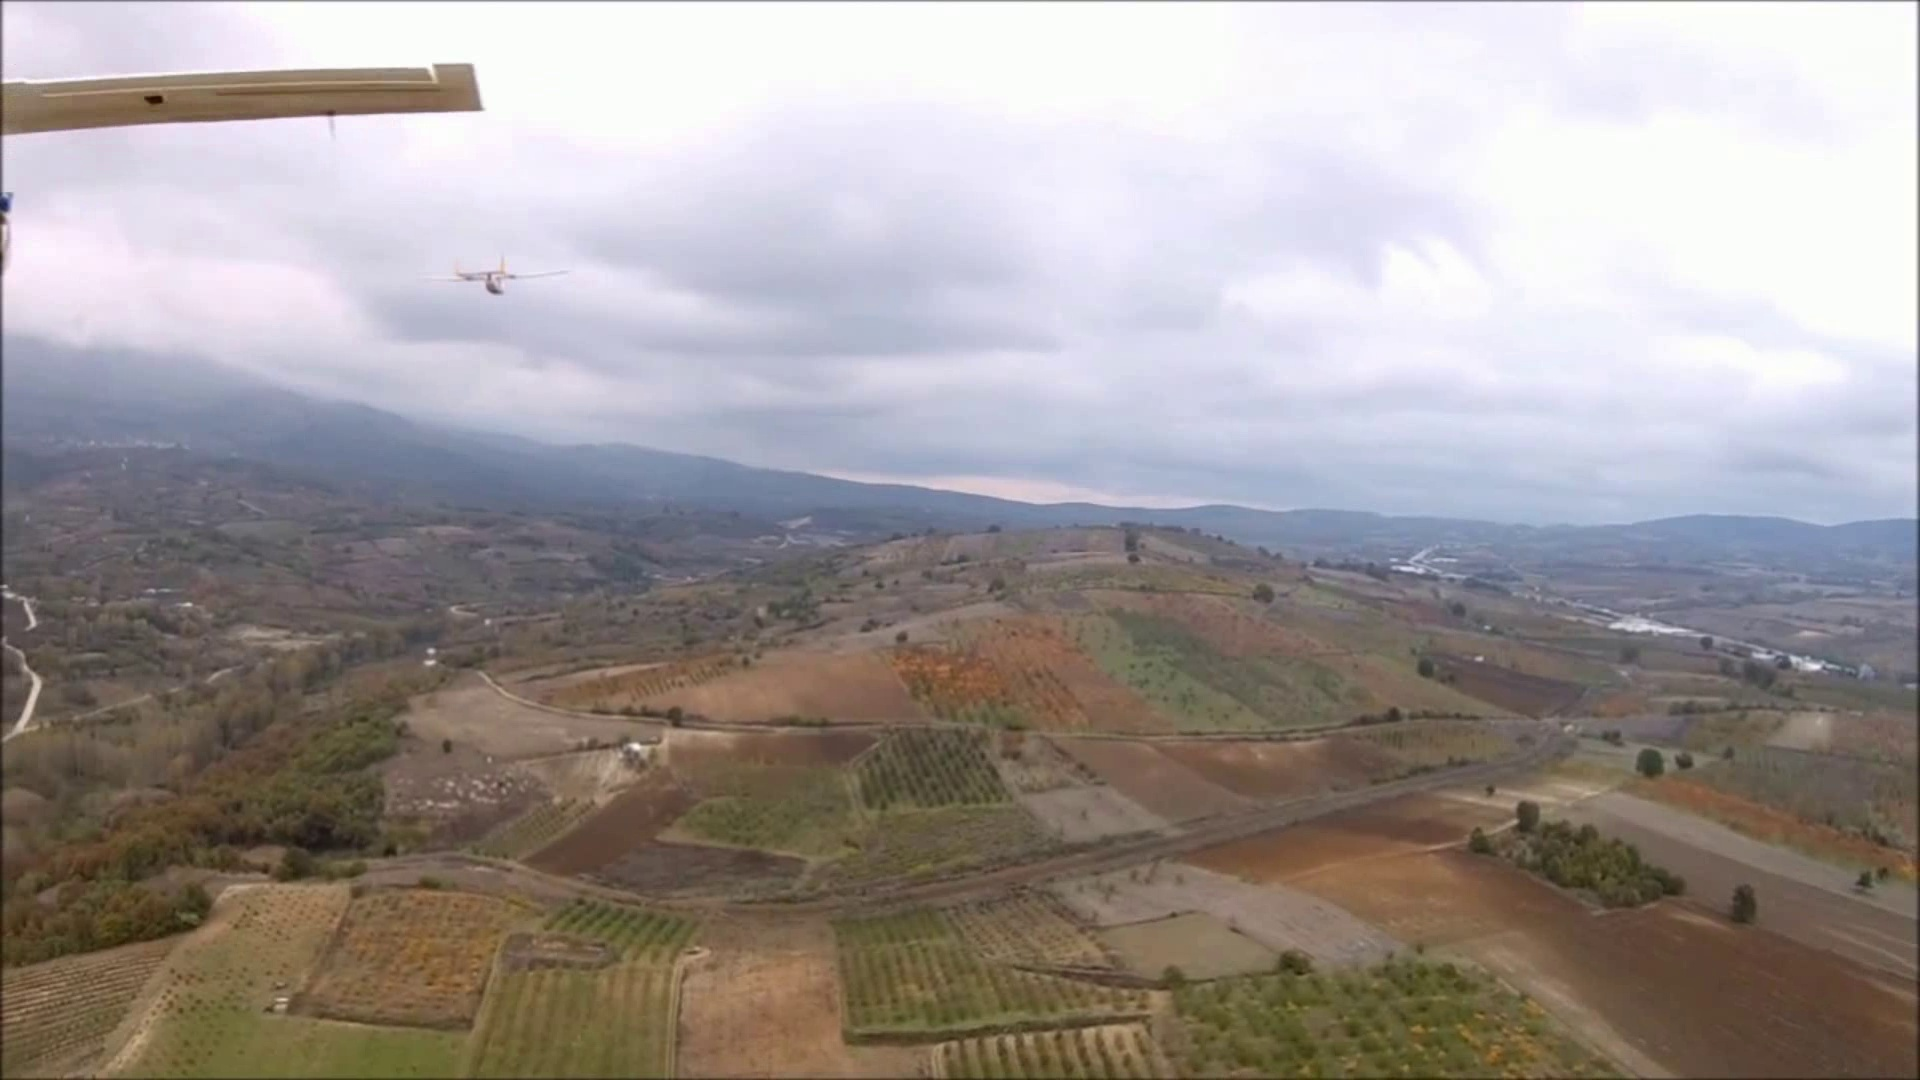airplane: (446, 247, 568, 297), (448, 249, 539, 295), (448, 249, 510, 293)
